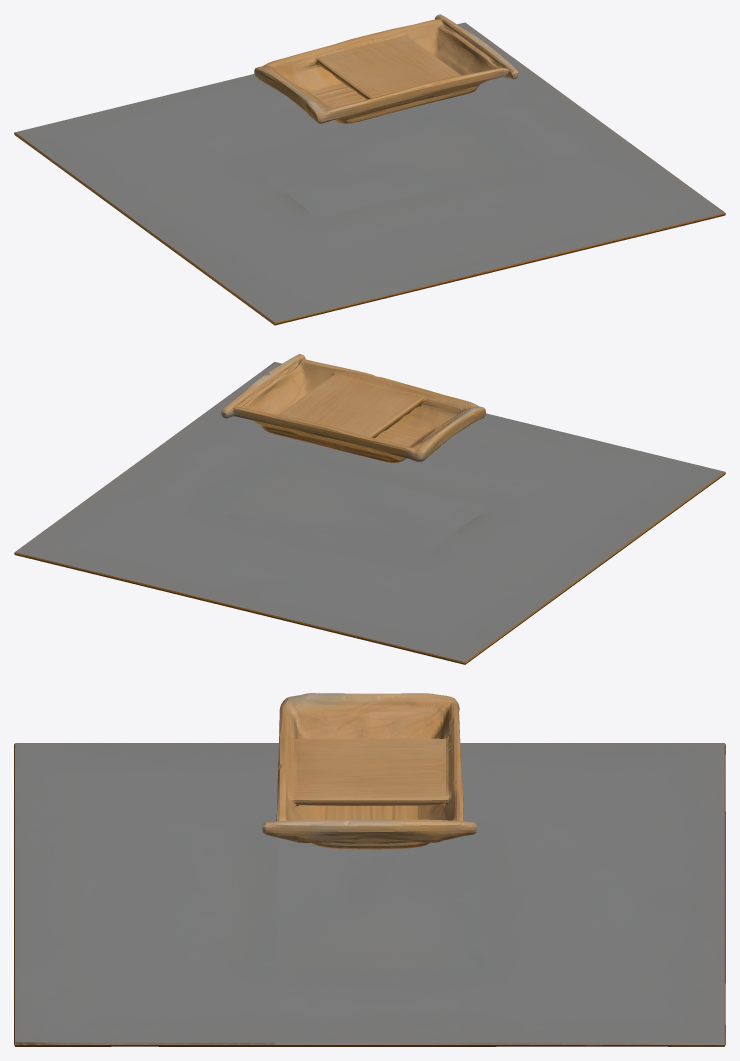
File: room-03.glb
3 views of the same model, one above another, from view 1: azimuth 30°, elevation 25°; view 2: azimuth 150°, elevation 25°; view 3: azimuth 270°, elevation 25° (orthographic). The views are drawn at different scales.
Parts seen in each view (by area): view 1: textured_mesh.obj; view 2: textured_mesh.obj; view 3: textured_mesh.obj.
Boxes of the visible parts, <box> form: textured_mesh.obj: <box>14,14,725,325</box>; textured_mesh.obj: <box>14,354,725,664</box>; textured_mesh.obj: <box>14,693,725,1046</box>.
Bounding box in the file's own units: 1.99 × 0.4615 × 1.99.
Materials: 1 (1 with a texture image).
